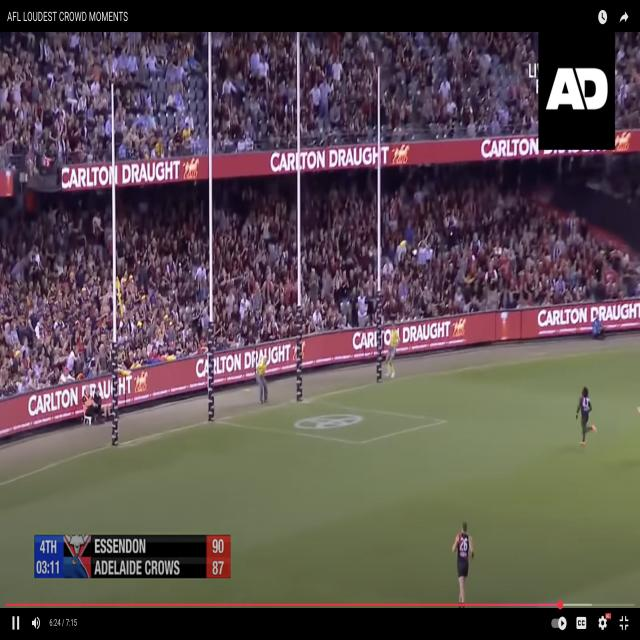crowd: (383, 151, 640, 322), (1, 32, 210, 167), (2, 189, 113, 400), (380, 33, 541, 148), (116, 181, 208, 365), (215, 175, 296, 353), (302, 168, 376, 333), (214, 34, 296, 153), (301, 32, 377, 149), (615, 40, 636, 133)
